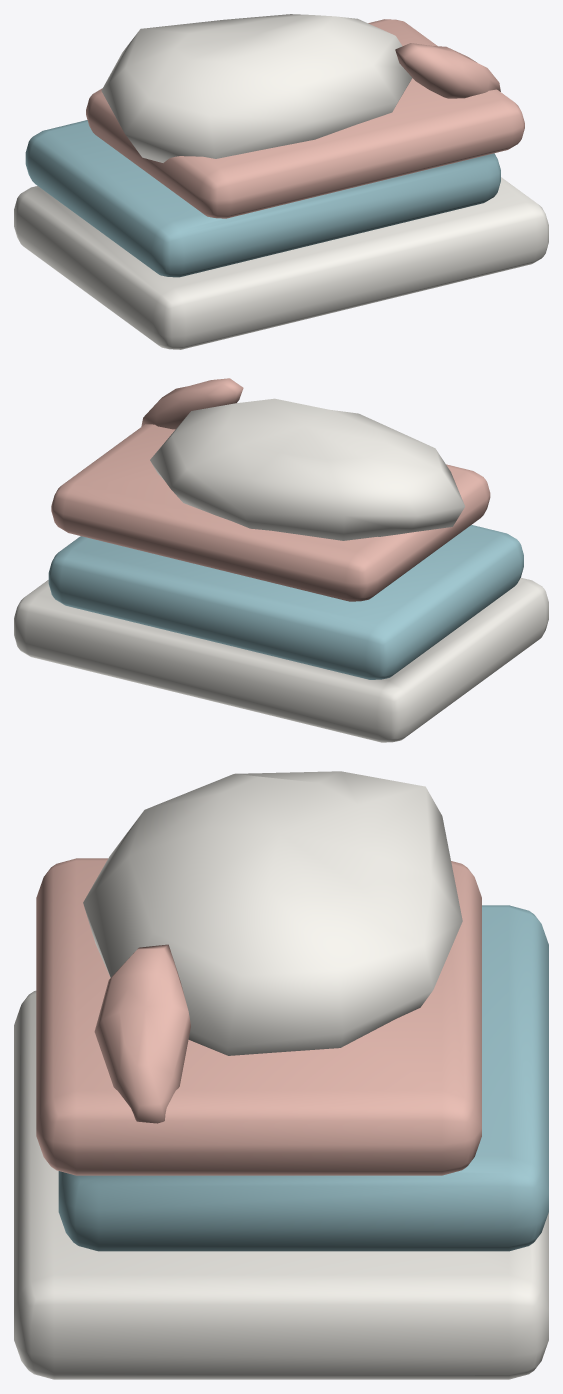
Rendered from washingArmful.glb.
The picture shows the model from 3 angles, top to bottom: view 1: azimuth 30°, elevation 25°; view 2: azimuth 150°, elevation 25°; view 3: azimuth 270°, elevation 25°; orthographic projection. The views are drawn at different scales.
Visible parts, largest first — view 1: washingArmful; view 2: washingArmful; view 3: washingArmful.
Part boxes in pixels (box(x1,y1,x2,y2)): washingArmful: box(14, 14, 548, 349); washingArmful: box(14, 378, 548, 742); washingArmful: box(14, 771, 548, 1379).
Size of the model in its own units: 0.34 by 0.1929 by 0.24.
